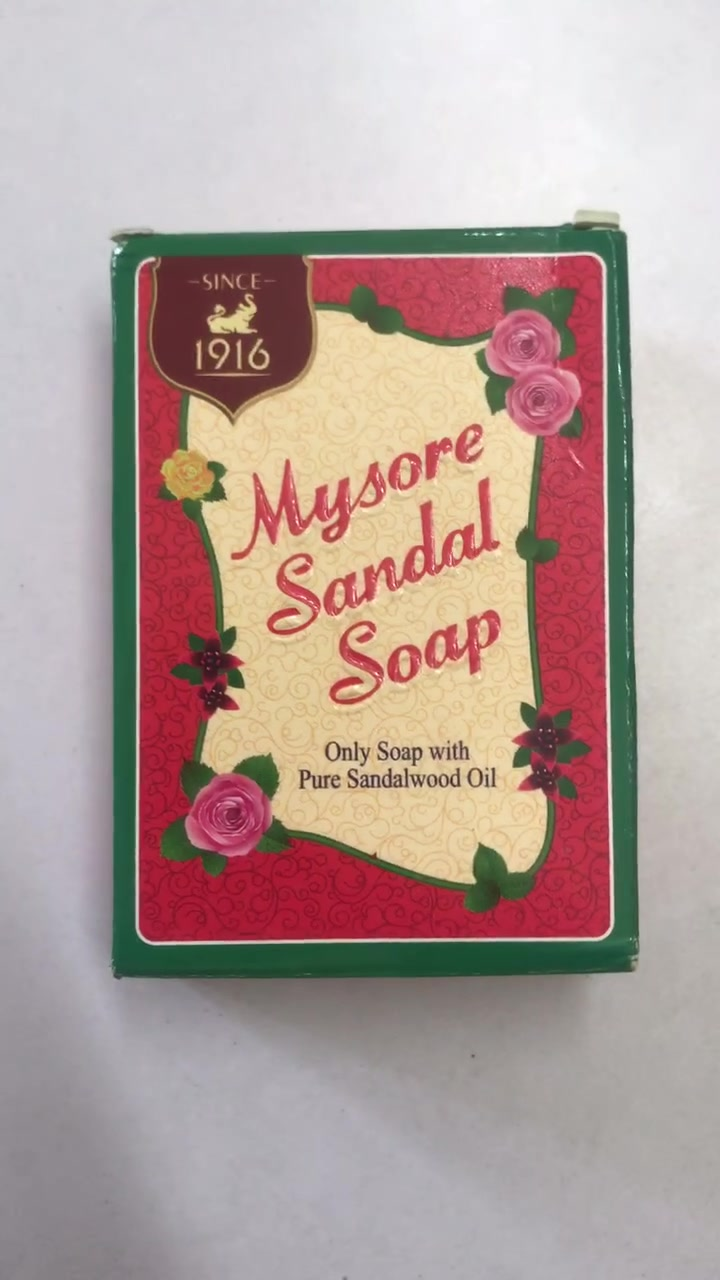mysore sandal soap: (116, 235, 637, 974)
